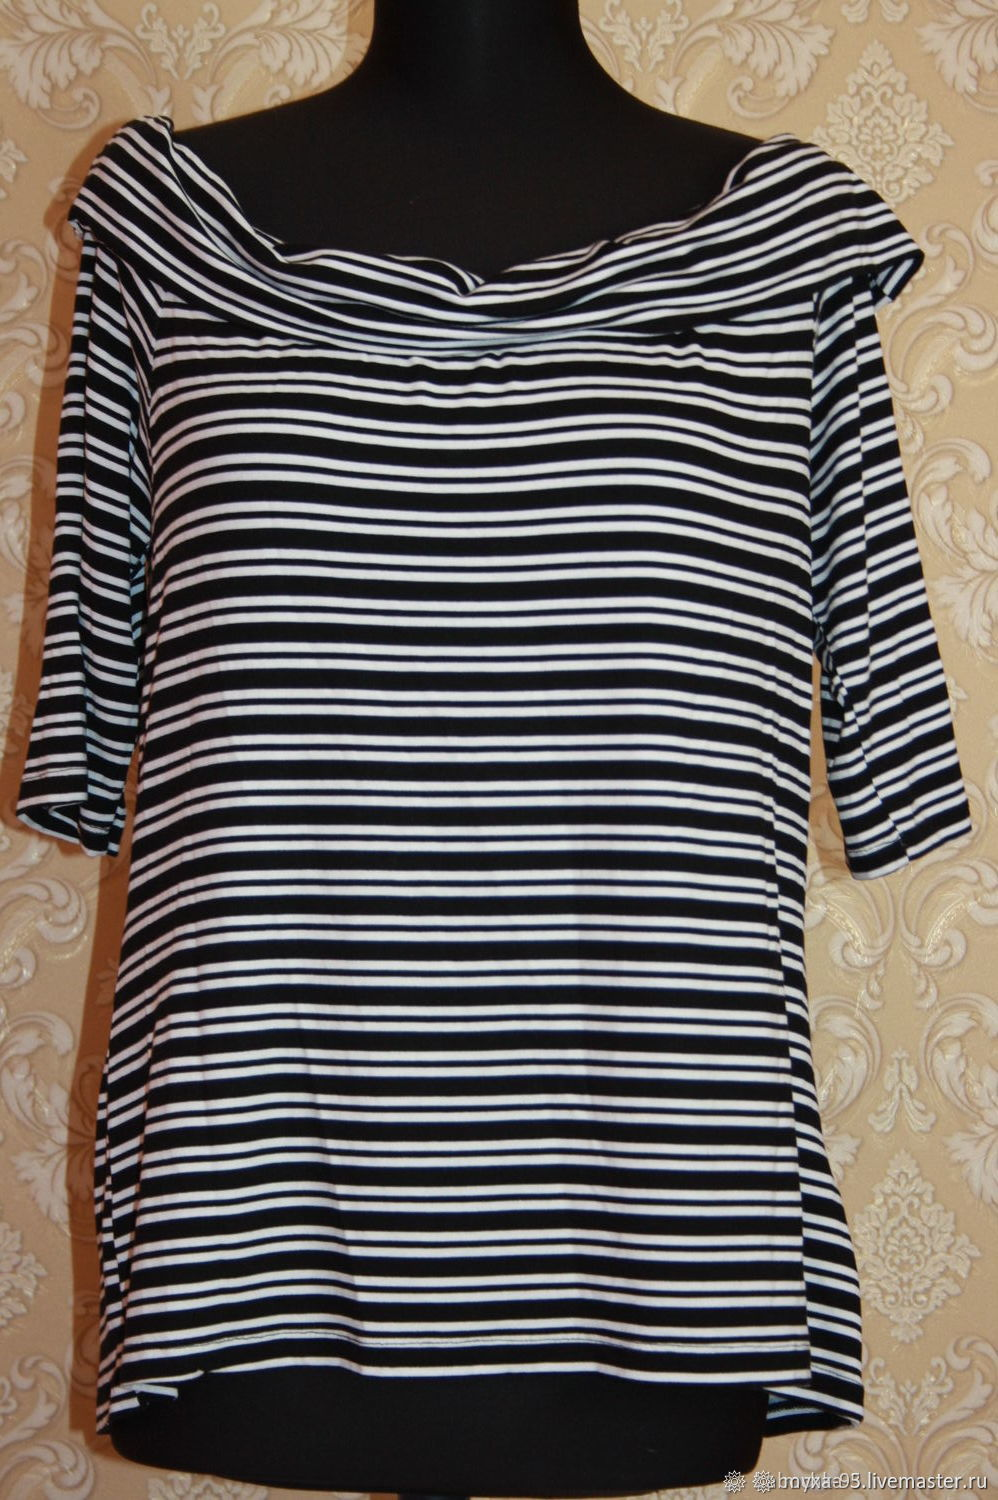striped: (12, 84, 979, 1457)
